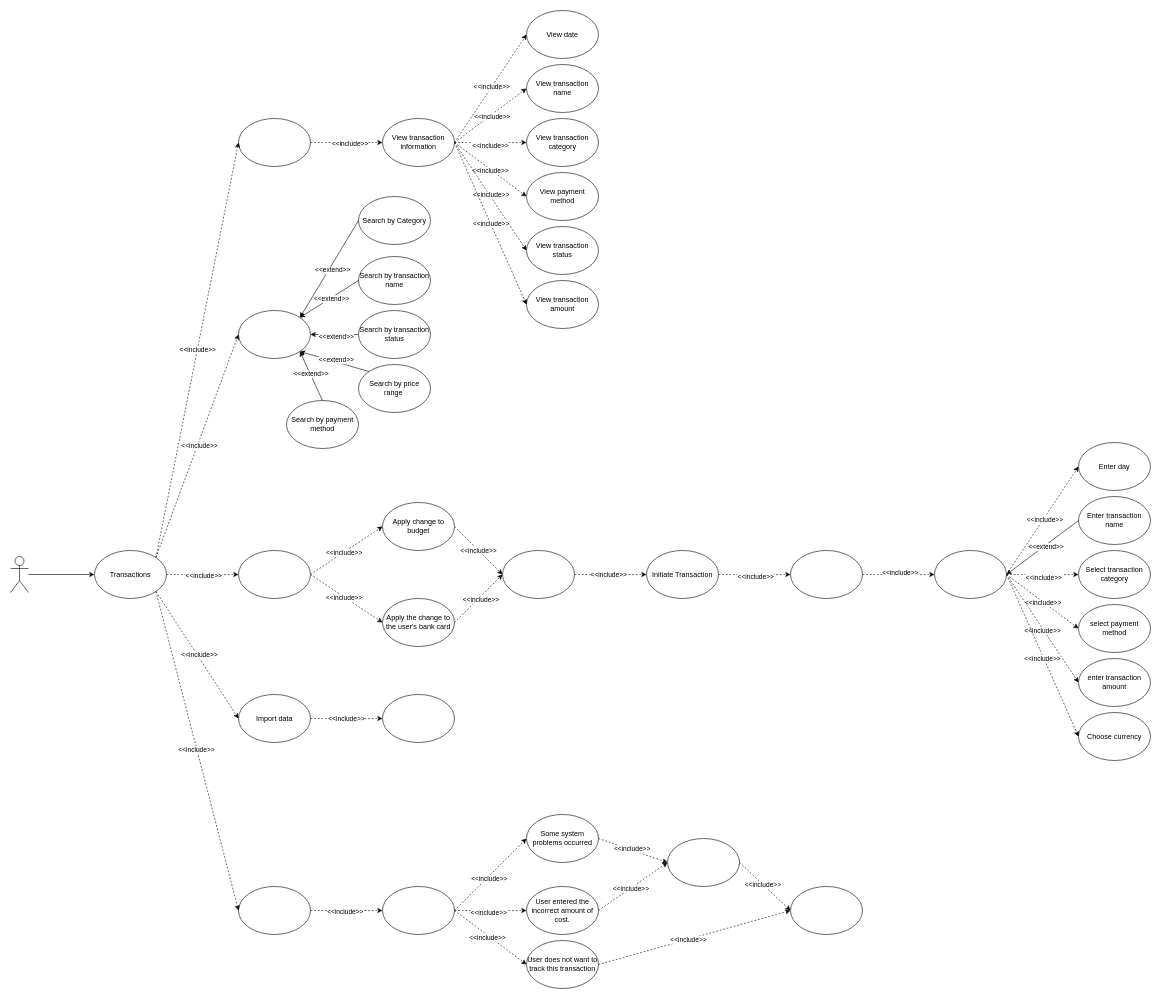
Image size: 1161x1000. Some labels were removed from this diagram. Here are the shapes that lost their labels. From the top down, the box of each, then its label:
(238, 118, 310, 166): View Transactions
(238, 310, 310, 358): Search transaction
(10, 556, 28, 592): Actor
(238, 550, 310, 598): Create transaction
(502, 550, 574, 598): fetch the transaction information
(790, 550, 862, 598): Choose the specific budget
(934, 550, 1006, 598): Enter transaction information
(382, 694, 454, 742): Choose valid file
(667, 838, 740, 886): Update budget
(238, 886, 310, 934): Delete Transactions
(382, 886, 454, 934): Choose the only reason to delete a specific transaction
(790, 886, 862, 934): check transaction is exist or not
